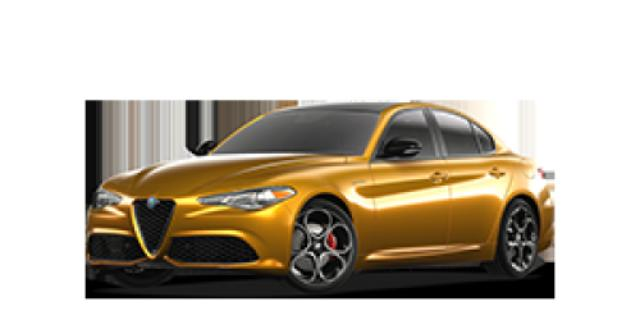alpha-romeo: (86, 100, 554, 294)
